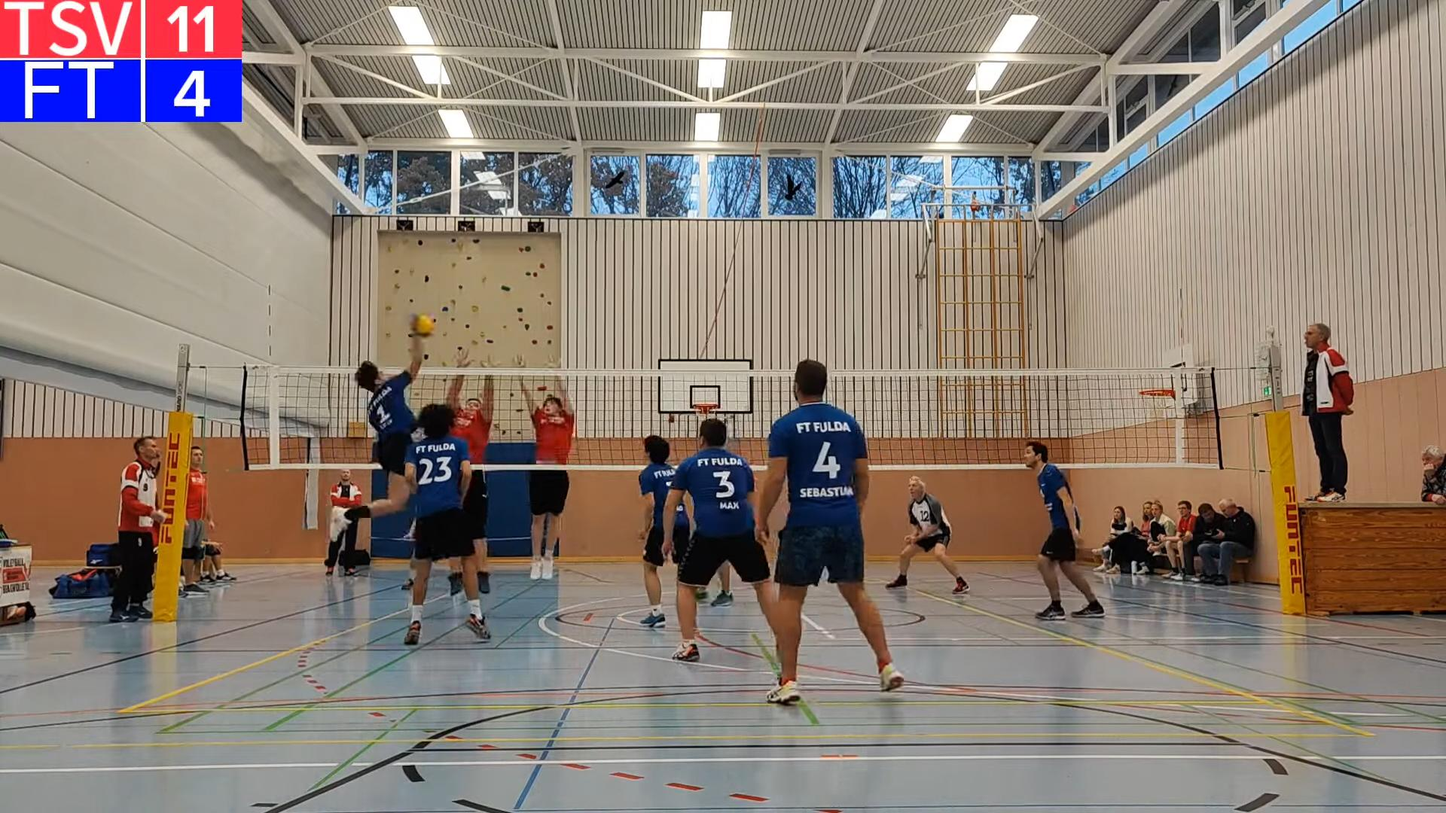Attack: (344, 333, 427, 523)
Block: (510, 350, 582, 578), (437, 346, 495, 471)
Player: (758, 360, 904, 703), (662, 419, 773, 661), (404, 403, 490, 644), (345, 324, 424, 521), (1024, 441, 1104, 620), (447, 375, 493, 592), (886, 477, 968, 594), (639, 435, 676, 628), (529, 468, 569, 579)
ball: (407, 313, 438, 337)
